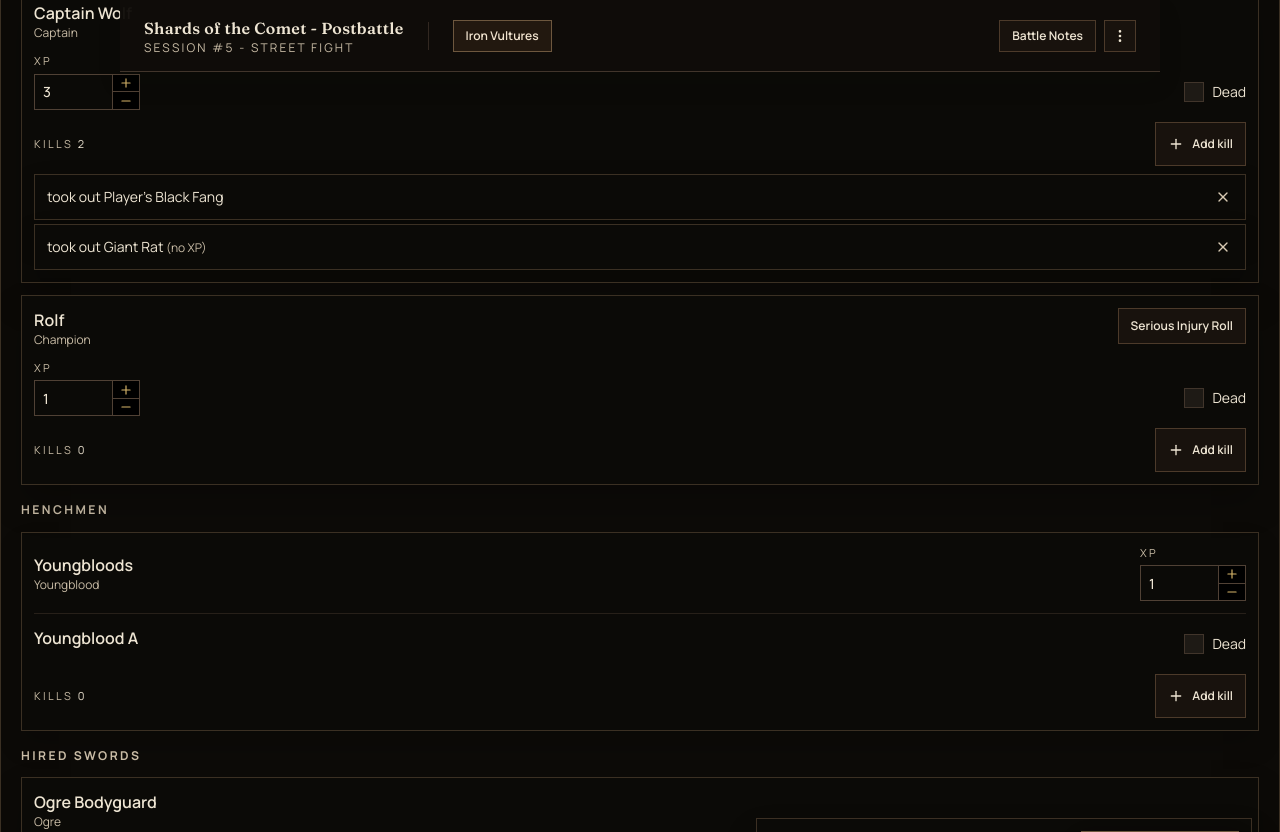
Test: BattlePostbattle requests › adds a kill of a unit on no roster by its typed name (BATL-NEW-06)
This screenshot has width=1280, height=832.
(page scrolled)
Expected: the text "Captain Wolf" is shown, [34,2,132,26]
Click the button with aria-label "Add a kill for Rolf" at [1201, 450], box [1155,428,1246,472]
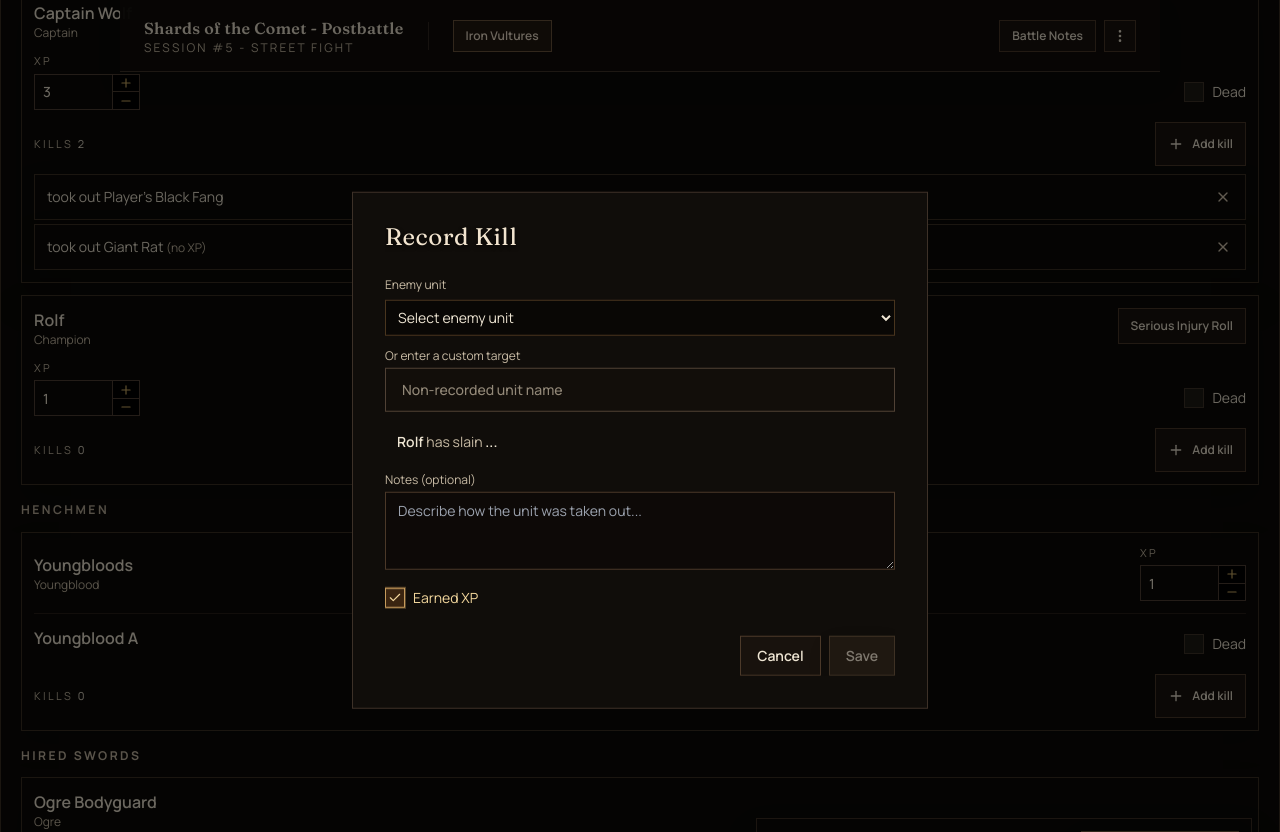
Type "Dire Wolf" into the field with placeholder "Non-recorded unit name" at [640, 389], box [385,367,895,411]
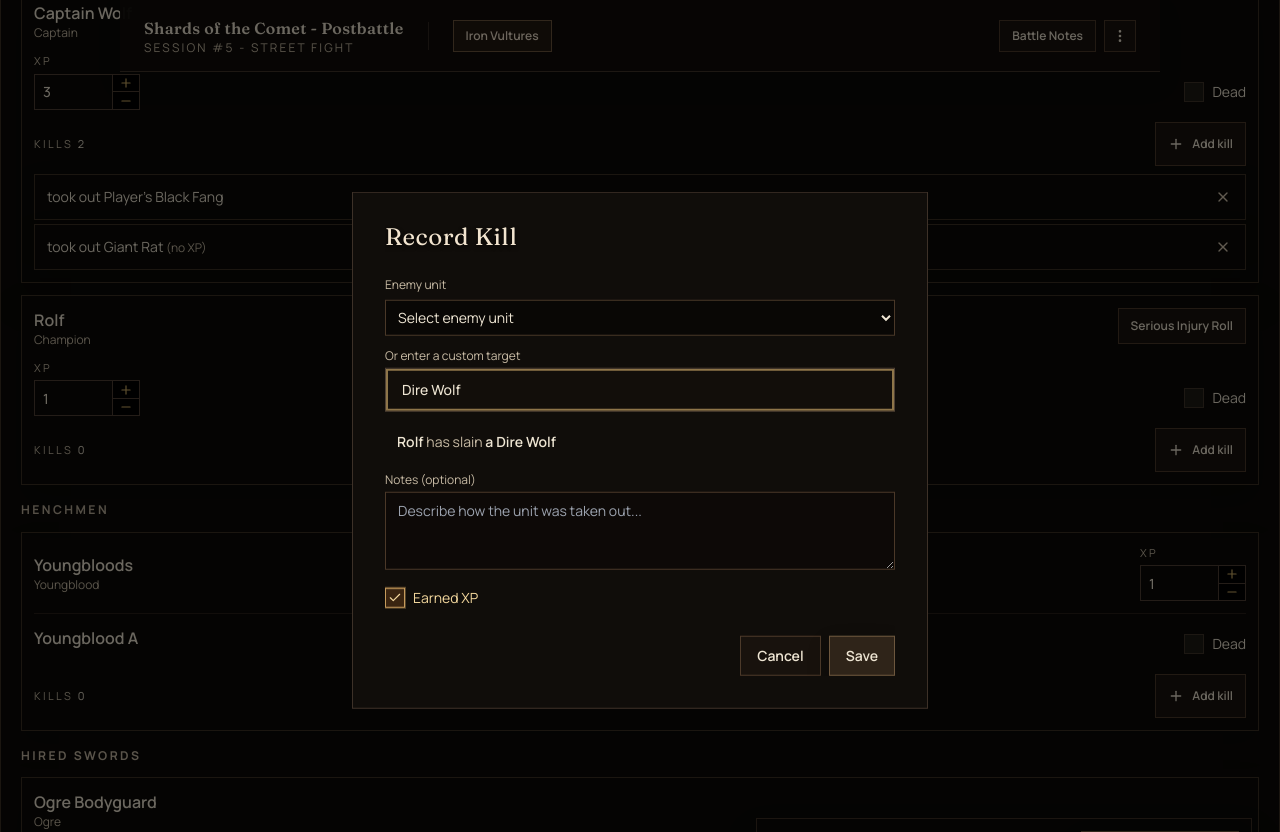
Click the button "Save" at [862, 655], box [829,635,895,675]
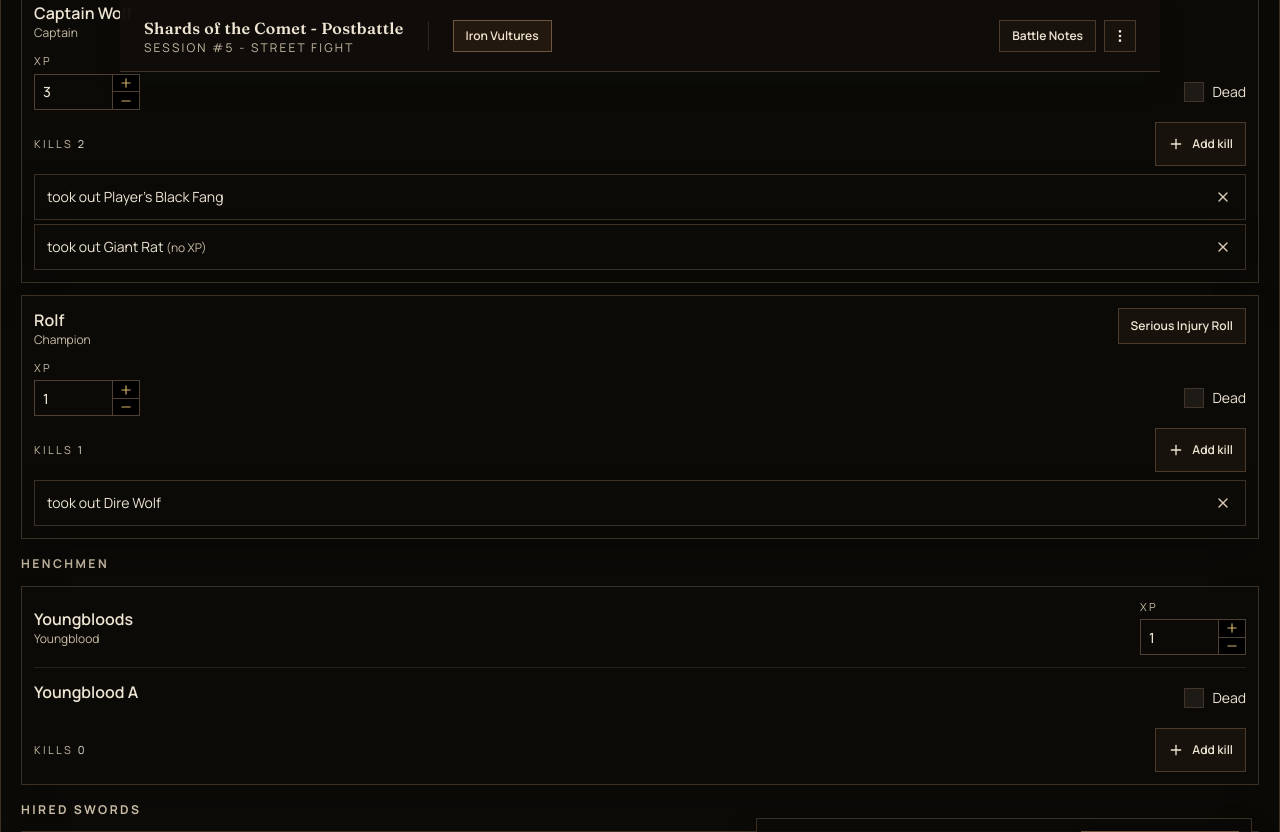
Now the text "took out Dire Wolf" is shown, box [47,494,161,514]
